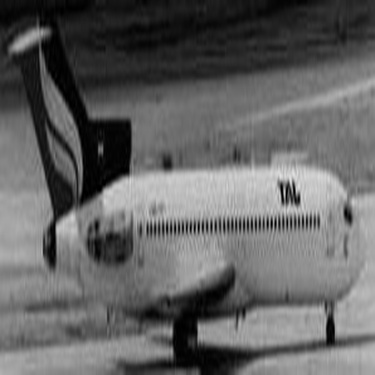airplane: (9, 1, 370, 364)
